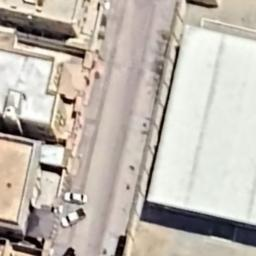sedan: (58, 208, 90, 228), (63, 190, 89, 204)
